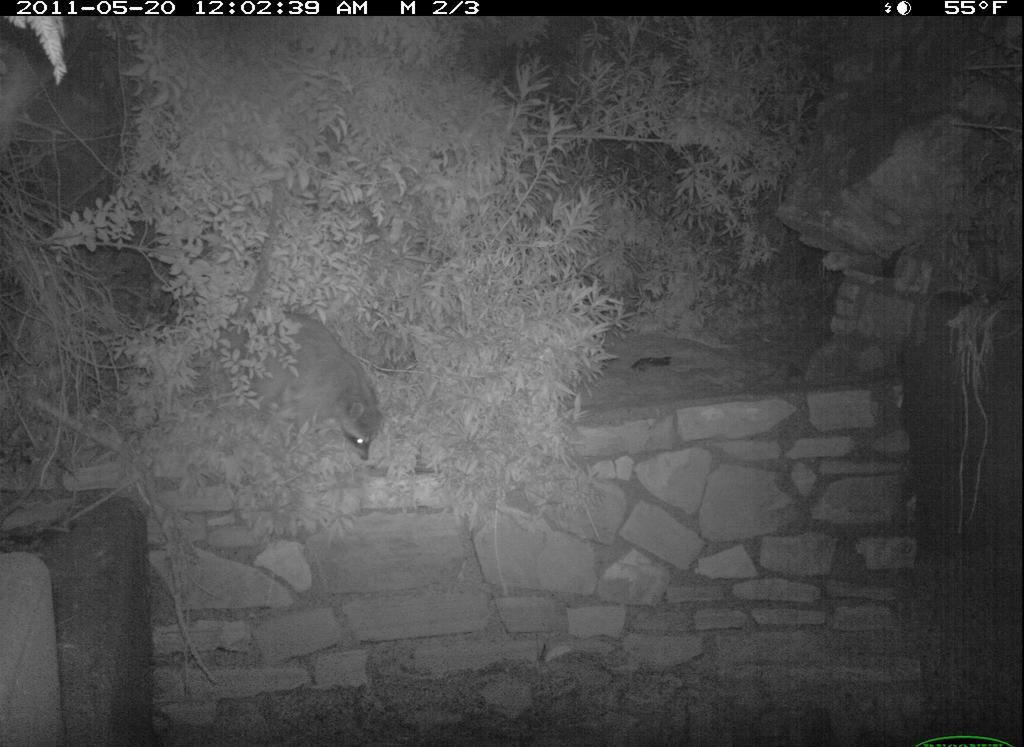raccoon: (253, 303, 401, 497)
